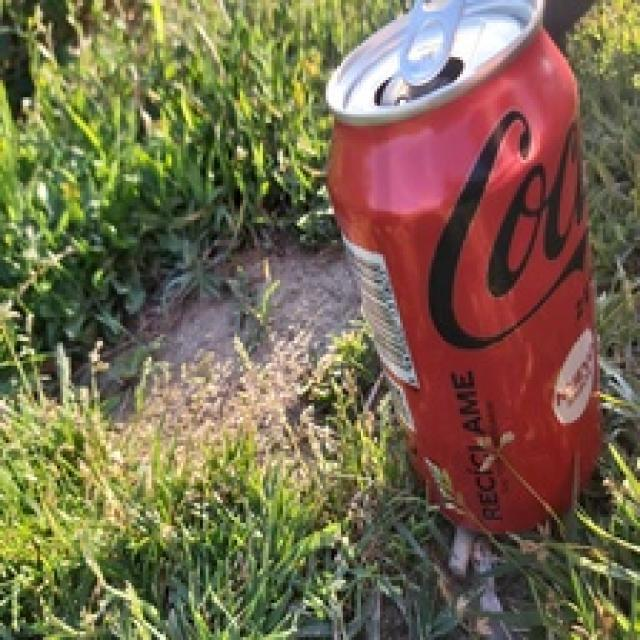recyclable: (324, 0, 602, 533)
